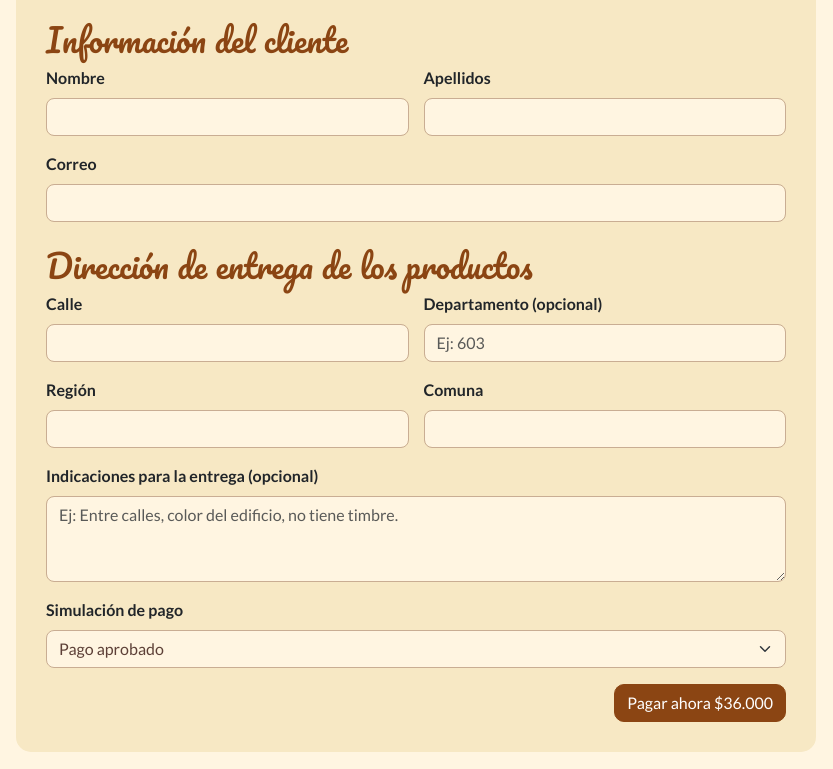
Test: Página Checkout › no procesa el pago si faltan datos obligatorios
(page scrolled)
Click the button "Pagar ahora $36.000" at (700, 703), box [614,684,786,722]
(page scrolled)
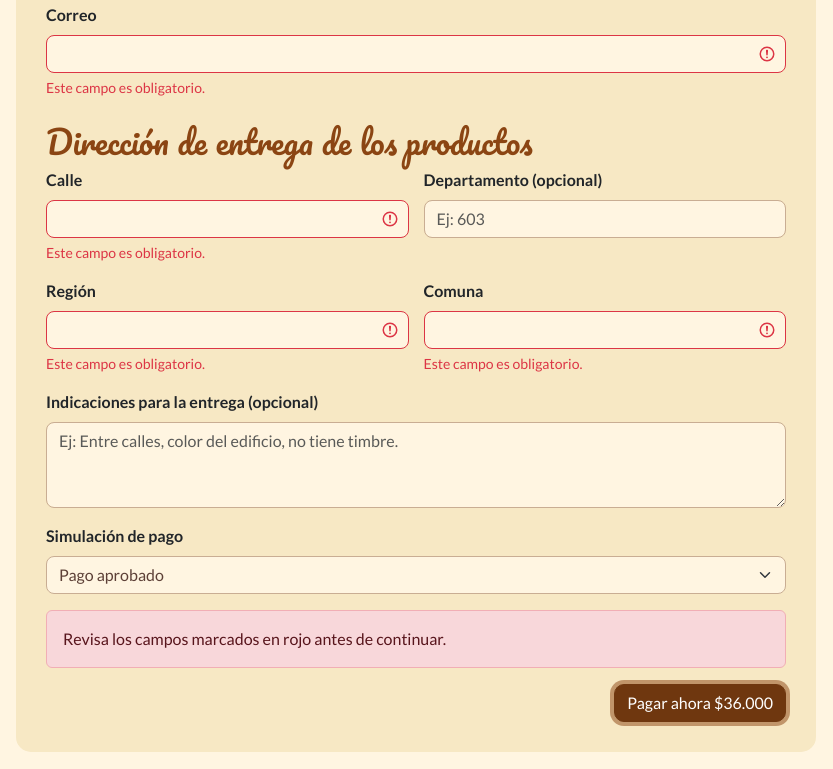
Expected: the message shows "Revisa los campos marcados en rojo", [63,629,446,648]
